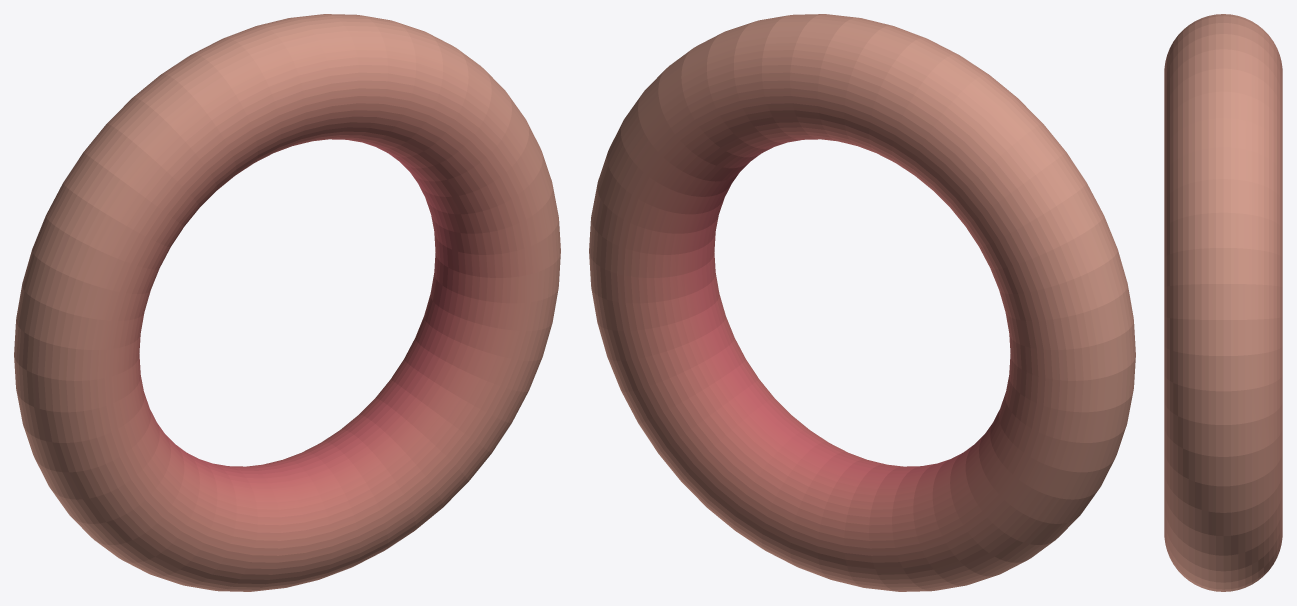
3 renders of one model, left to right at view 1: azimuth 30°, elevation 25°; view 2: azimuth 150°, elevation 25°; view 3: azimuth 270°, elevation 25°, orthographic. The views are drawn at different scales.
Visible parts, largest first — view 1: world; view 2: world; view 3: world.
Boxes of the visible parts, <box> form: world: <box>14,14,560,591</box>; world: <box>589,14,1135,591</box>; world: <box>1164,14,1282,591</box>.
Size of the model in its own units: 31.87 by 31.8 by 6.52.
